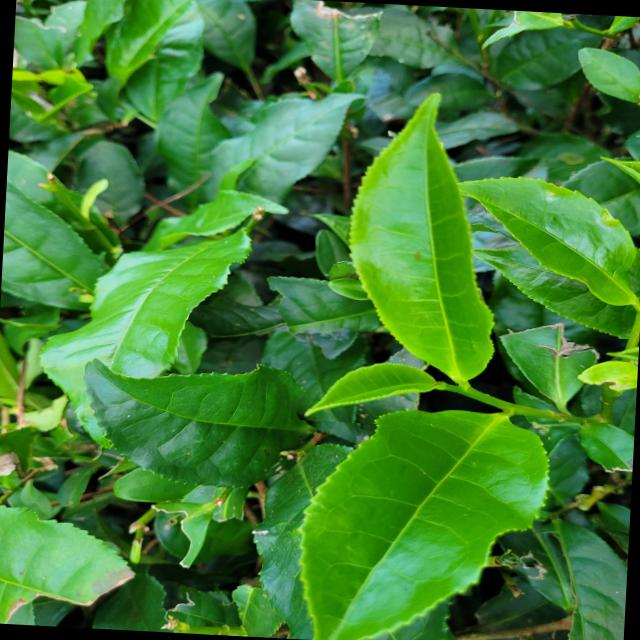Catagory A(1-2 days): (292, 338, 462, 428)
